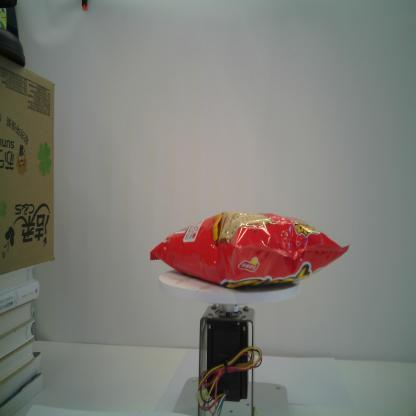Puffed Food: (146, 209, 355, 290)
